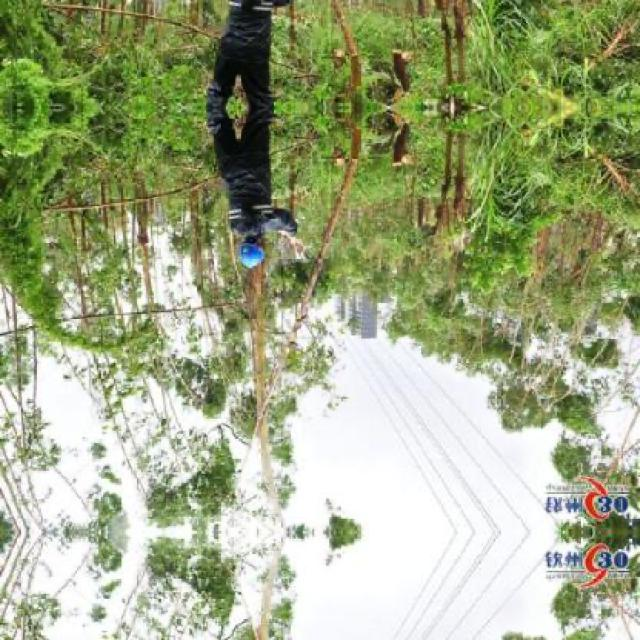con casco: (214, 232, 282, 288)
